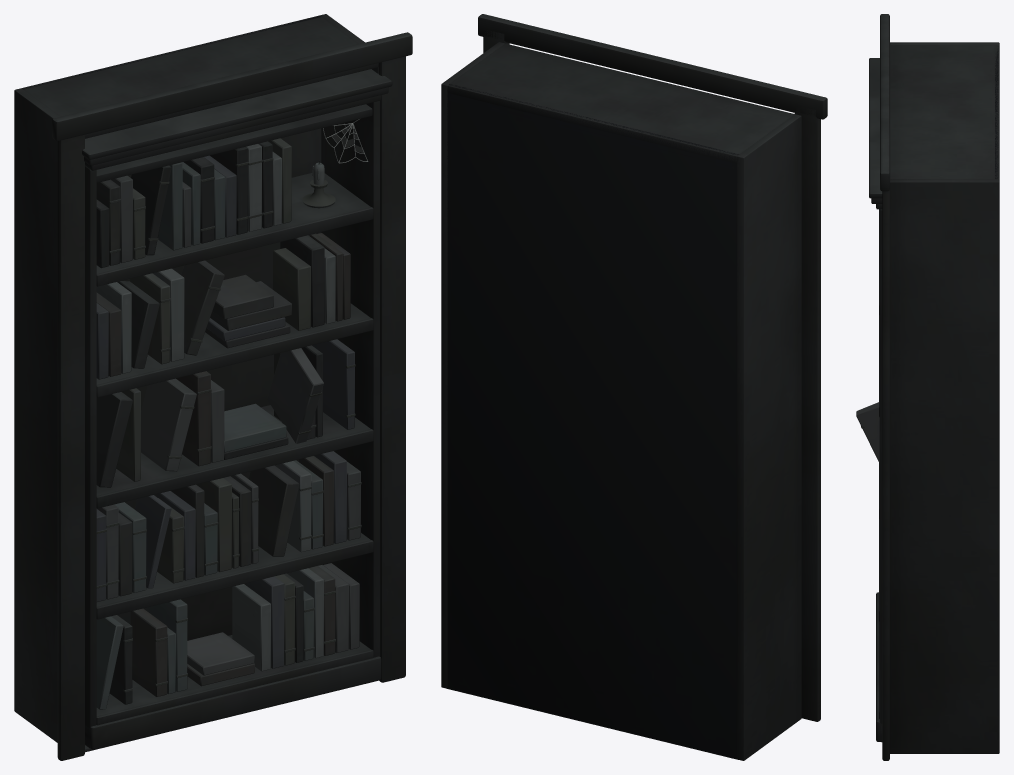
The model's file is secret-bookcase-door.glb.
The picture shows the model from 3 angles, left to right: view 1: azimuth 30°, elevation 25°; view 2: azimuth 150°, elevation 25°; view 3: azimuth 270°, elevation 25°; orthographic projection. The views are drawn at different scales.
Parts seen in each view (by area): view 1: secret-bookcase-door_door, secret-bookcase-door_body; view 2: secret-bookcase-door_body; view 3: secret-bookcase-door_body, secret-bookcase-door_door.
Boxes of the visible parts, left/top/right/bottom form: secret-bookcase-door_door: left=82, top=69, right=392, bottom=749; secret-bookcase-door_body: left=14, top=14, right=412, bottom=760; secret-bookcase-door_body: left=441, top=14, right=827, bottom=760; secret-bookcase-door_body: left=880, top=14, right=999, bottom=760; secret-bookcase-door_door: left=856, top=58, right=882, bottom=742.
Bounding box in the file's own units: 1.28 × 2.2 × 0.4836.
Materials: 4 (2 with a texture image).
